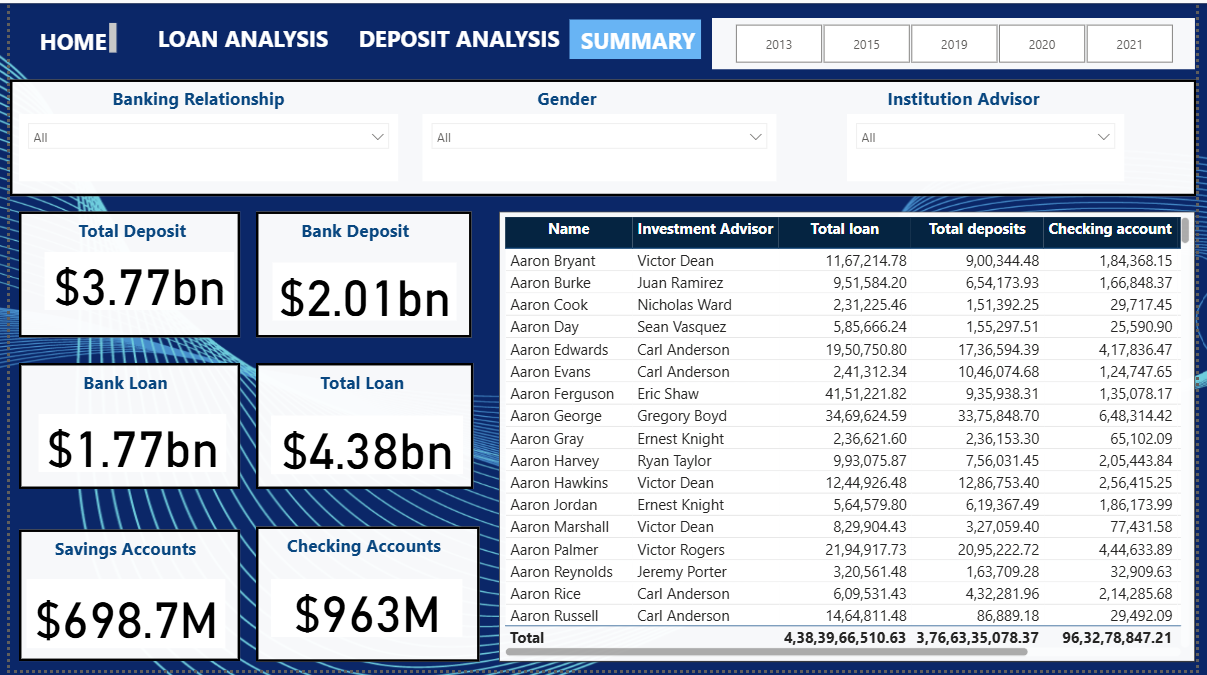

This screenshot's page, from the dashboard's own definition file:
{"tool":"powerbi","page":{"name":"Summary","canvas":[1280,720],"ordinal":3},"visuals":[{"type":"textbox","box":[9.7,16.2,110.1,43.7],"z":0},{"type":"textbox","box":[137.6,16.2,221.8,43.7],"z":1000},{"type":"textbox","box":[359.5,16.2,244.5,43.7],"z":2000},{"type":"textbox","box":[603.5,18.2,141.8,42.5],"z":3000},{"type":"slicer","fields":{"Values":["Clients - Banking.Joined Bank.Variation.Date Hierarchy.Year"]},"box":[757.8,16.2,521.4,55.1],"z":4000},{"type":"textbox","box":[0,82.6,1280.8,126.3],"z":5000},{"type":"textbox","box":[10.1,224.8,239,135.7],"z":6000},{"type":"textbox","box":[265.3,224.8,232.9,135.7],"z":7000},{"type":"actionButton","box":[21,21,105.2,42.1],"z":8000},{"type":"card","fields":{"Values":["Banking Relationship.Total deposits"]},"box":[36.5,269.4,204.6,62.8],"z":9000},{"type":"card","fields":{"Values":["Sum(Banking_Clients.Bank Deposits)"]},"box":[283.5,279.5,198.5,62.8],"z":10000},{"type":"slicer","fields":{"Values":["Banking_Clients.BRId"]},"box":[9.7,119.8,409.7,72.9],"z":11000},{"type":"slicer","fields":{"Values":["Gender.Gender"]},"box":[445.3,119.8,382.1,72.9],"z":12000},{"type":"slicer","fields":{"Values":["Investment Advisor.IAId"]},"box":[903.5,119.8,299.6,72.9],"z":13000},{"type":"actionButton","box":[176.5,16.2,183,40.5],"z":14000},{"type":"actionButton","box":[393.5,16.2,210.5,40.5],"z":15000},{"type":"textbox","box":[10.1,388.9,239,135.7],"z":16000},{"type":"card","fields":{"Values":["Sum(Banking_Clients.Bank Loans)"]},"box":[30.4,443.5,202.5,62.8],"z":17000},{"type":"textbox","box":[265.3,388.9,234.9,135.7],"z":18000},{"type":"card","fields":{"Values":["Banking Relationship.Total loan"]},"box":[281.7,445.3,207.3,63.1],"z":19000},{"type":"textbox","box":[10.1,569.1,239,141.8],"z":20000},{"type":"card","fields":{"Values":["Sum(Banking_Clients.Saving Accounts)"]},"box":[18.2,621.8,214.7,74.9],"z":21000},{"type":"textbox","box":[265.3,565.1,241,145.8],"z":22000},{"type":"card","fields":{"Values":["Sum(Banking_Clients.Checking Accounts)"]},"box":[281.5,621.8,206.6,62.8],"z":23000},{"type":"tableEx","fields":{"Values":["Clients - Banking.Name","Investment Advisor.Investment Advisor","Banking Relationship.Total loan","Banking Relationship.Total deposits","Banking_Clients.Checking account","Sum(Clients - Banking.Credit Card Balance)"]},"box":[528.6,224.8,751.4,486.1],"z":24000}]}

Visuals, with their boxes in screenshot pixels (x1, y1, x2, y2), scaled from the page's 1280x720 canvas onto the 1207x675 screenshot:
textbox: 9,15,113,56
textbox: 130,15,339,56
textbox: 339,15,570,56
textbox: 569,17,703,57
slicer - Clients - Banking.Joined Bank.Variation.Date Hierarchy.Year: 715,15,1206,67
textbox: 0,77,1206,196
textbox: 10,211,235,338
textbox: 250,211,470,338
actionButton: 20,20,119,59
card - Banking Relationship.Total deposits: 34,253,227,311
card - Sum(Banking_Clients.Bank Deposits): 267,262,455,321
slicer - Banking_Clients.BRId: 9,112,395,181
slicer - Gender.Gender: 420,112,780,181
slicer - Investment Advisor.IAId: 852,112,1134,181
actionButton: 166,15,339,53
actionButton: 371,15,570,53
textbox: 10,365,235,492
card - Sum(Banking_Clients.Bank Loans): 29,416,220,475
textbox: 250,365,472,492
card - Banking Relationship.Total loan: 266,417,461,477
textbox: 10,534,235,666
card - Sum(Banking_Clients.Saving Accounts): 17,583,220,653
textbox: 250,530,477,666
card - Sum(Banking_Clients.Checking Accounts): 265,583,460,642
tableEx - Clients - Banking.Name x Investment Advisor.Investment Advisor: 498,211,1206,666
